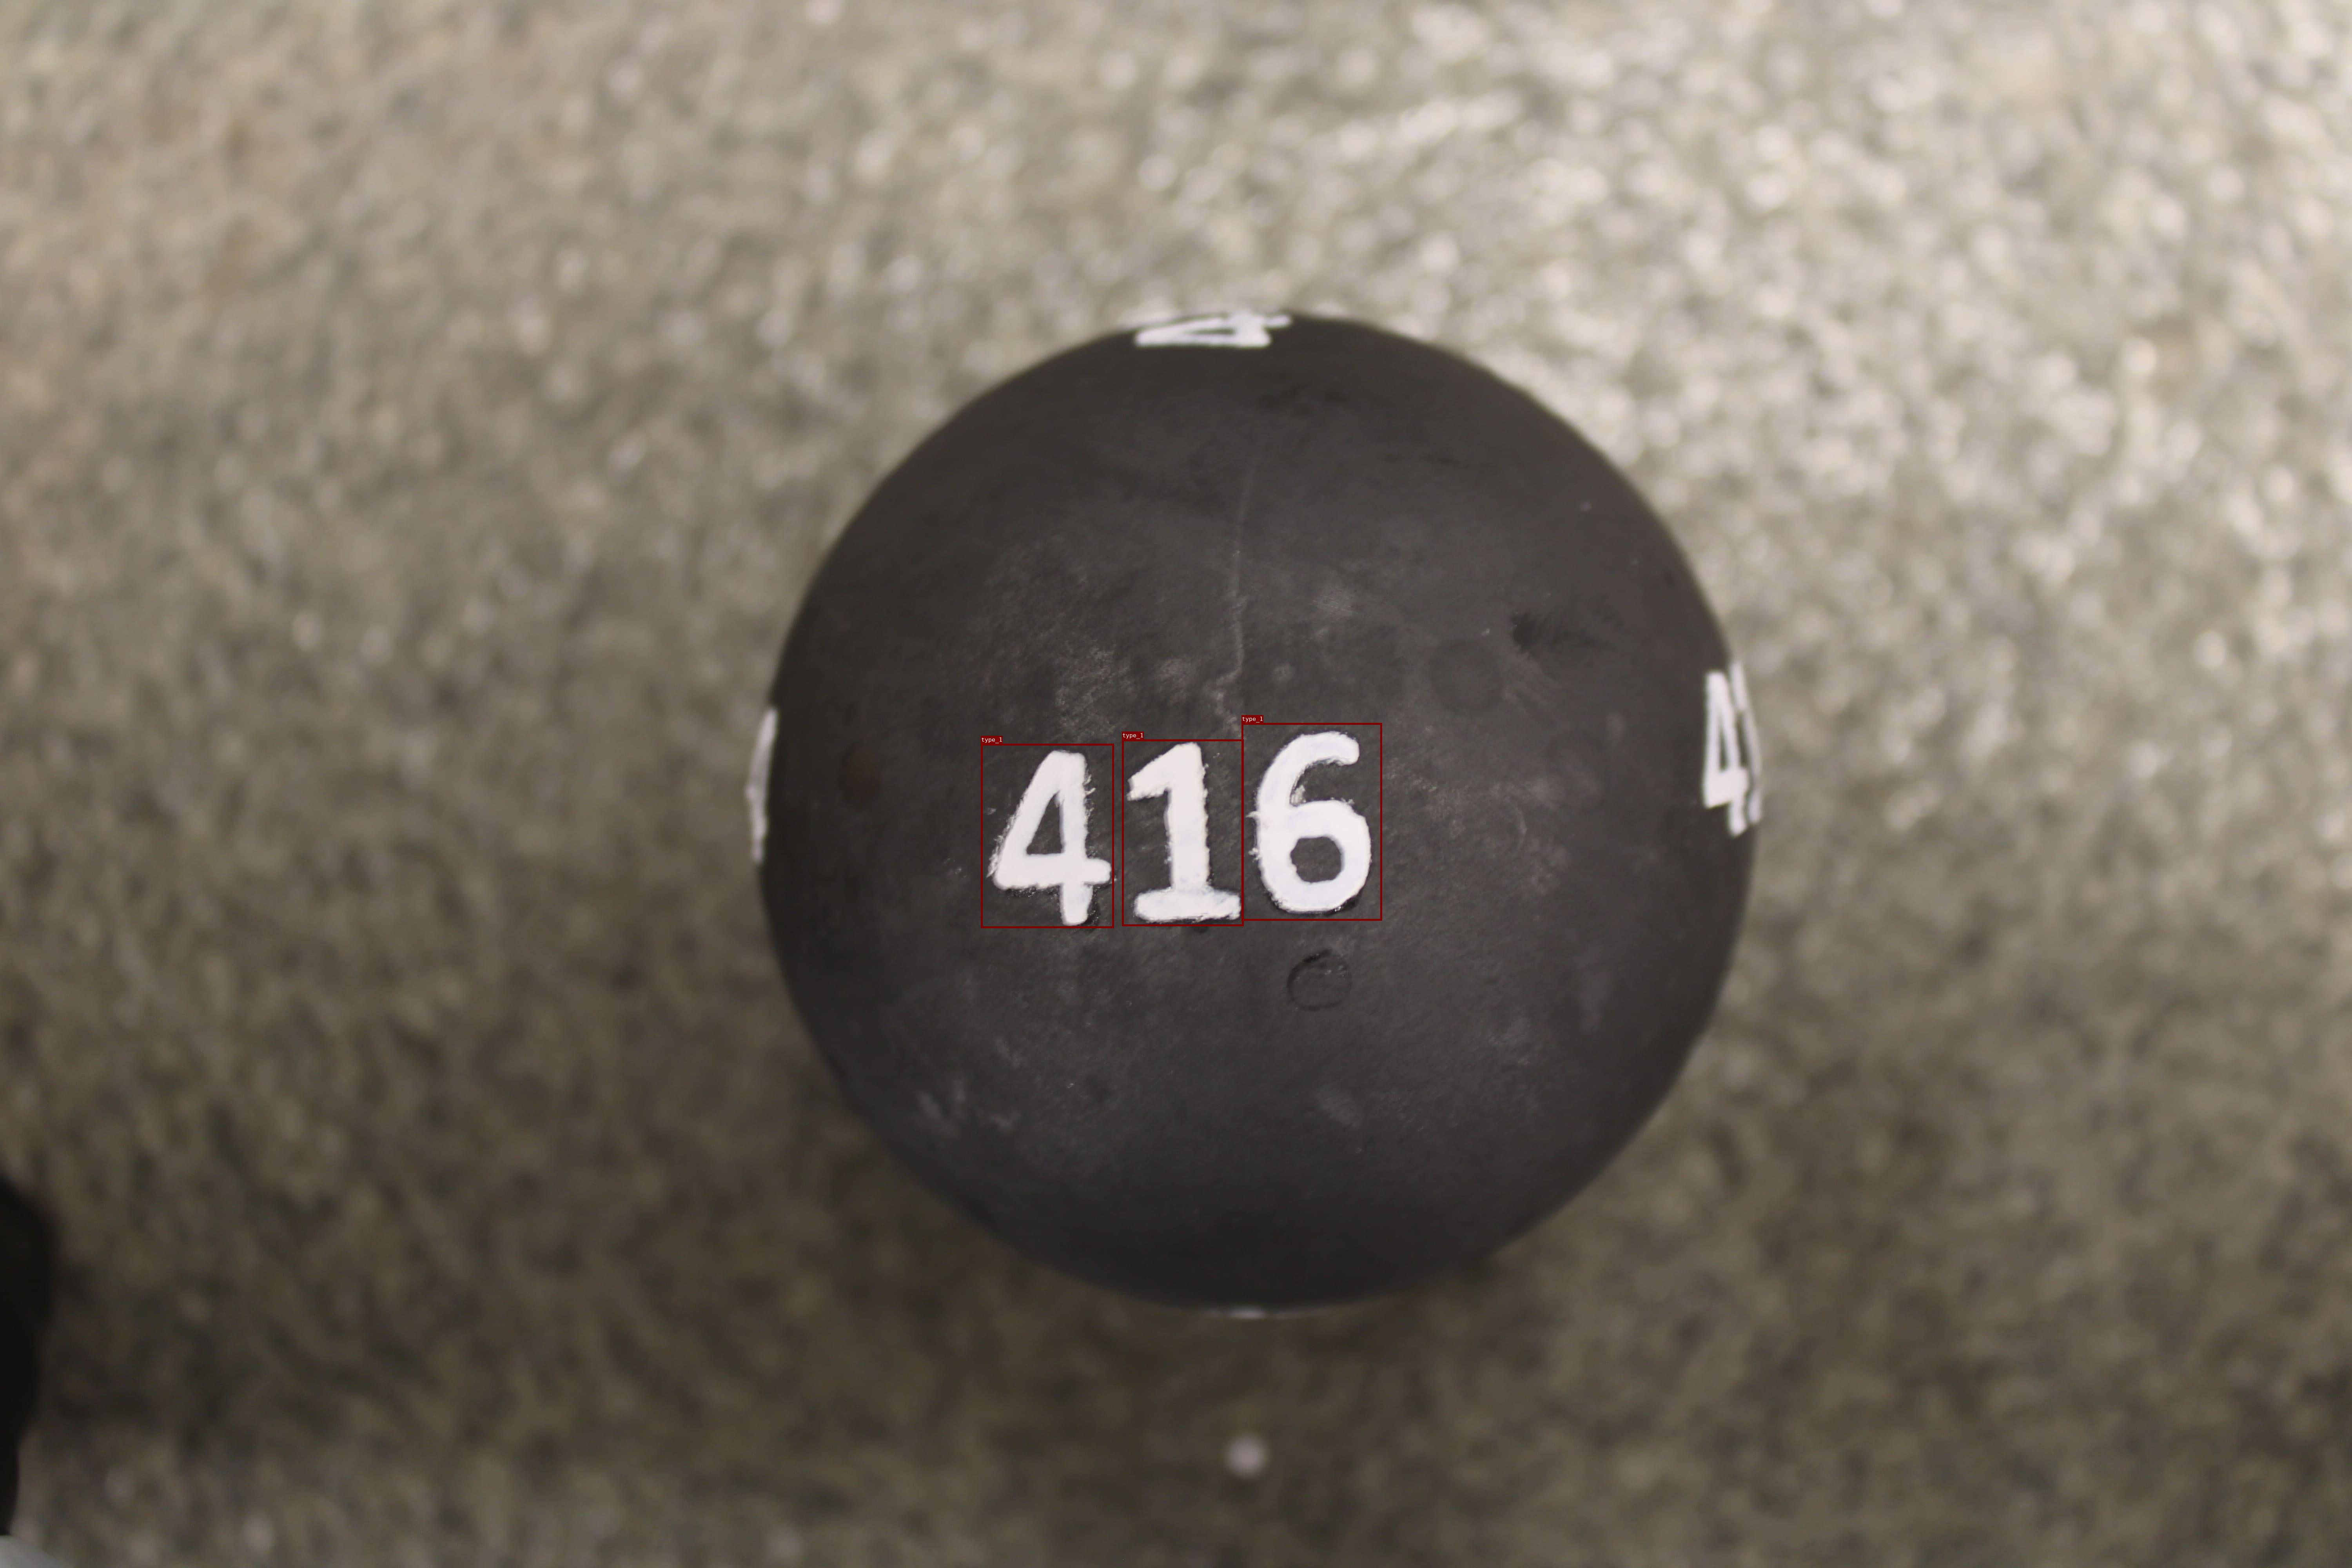type_1: (1241, 723, 1382, 921), (980, 744, 1113, 927), (1122, 739, 1244, 926)
